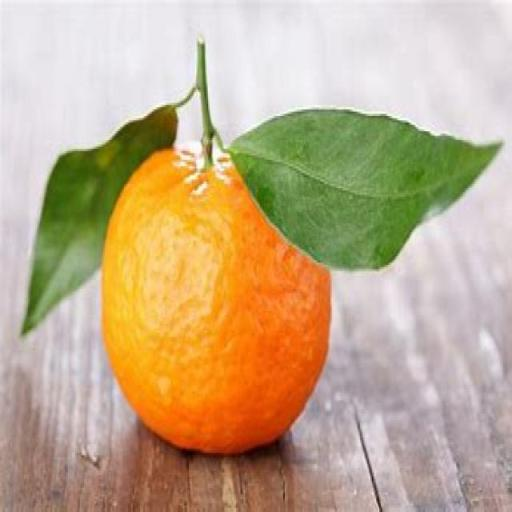fruit: (103, 151, 330, 453)
